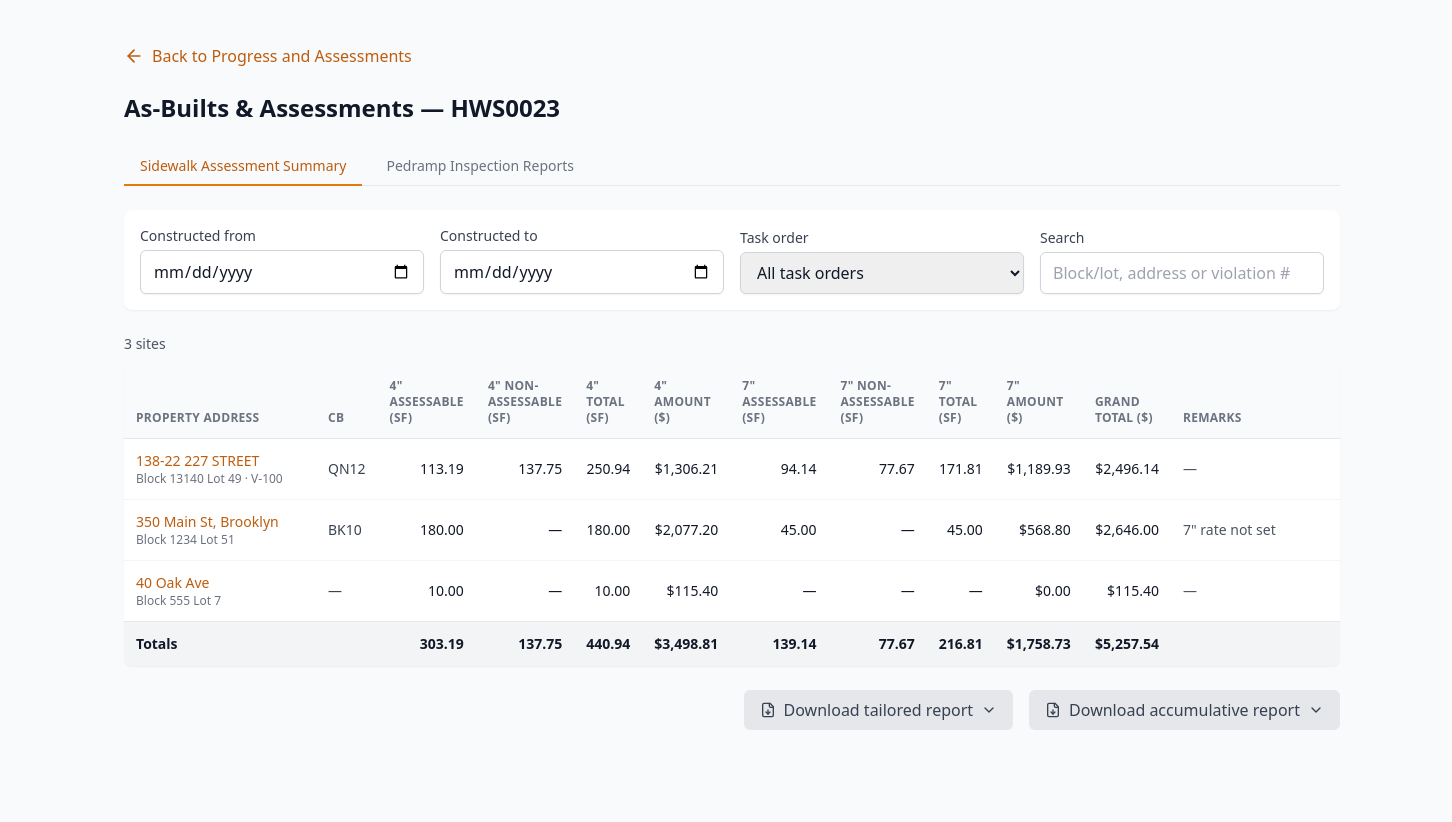
Test: AssessmentsPage — the period and the search › narrows the rows by an address, without asking the backend
Type "main st" into the search field labelled "Search" at [1182, 273], box [1040,252,1324,294]
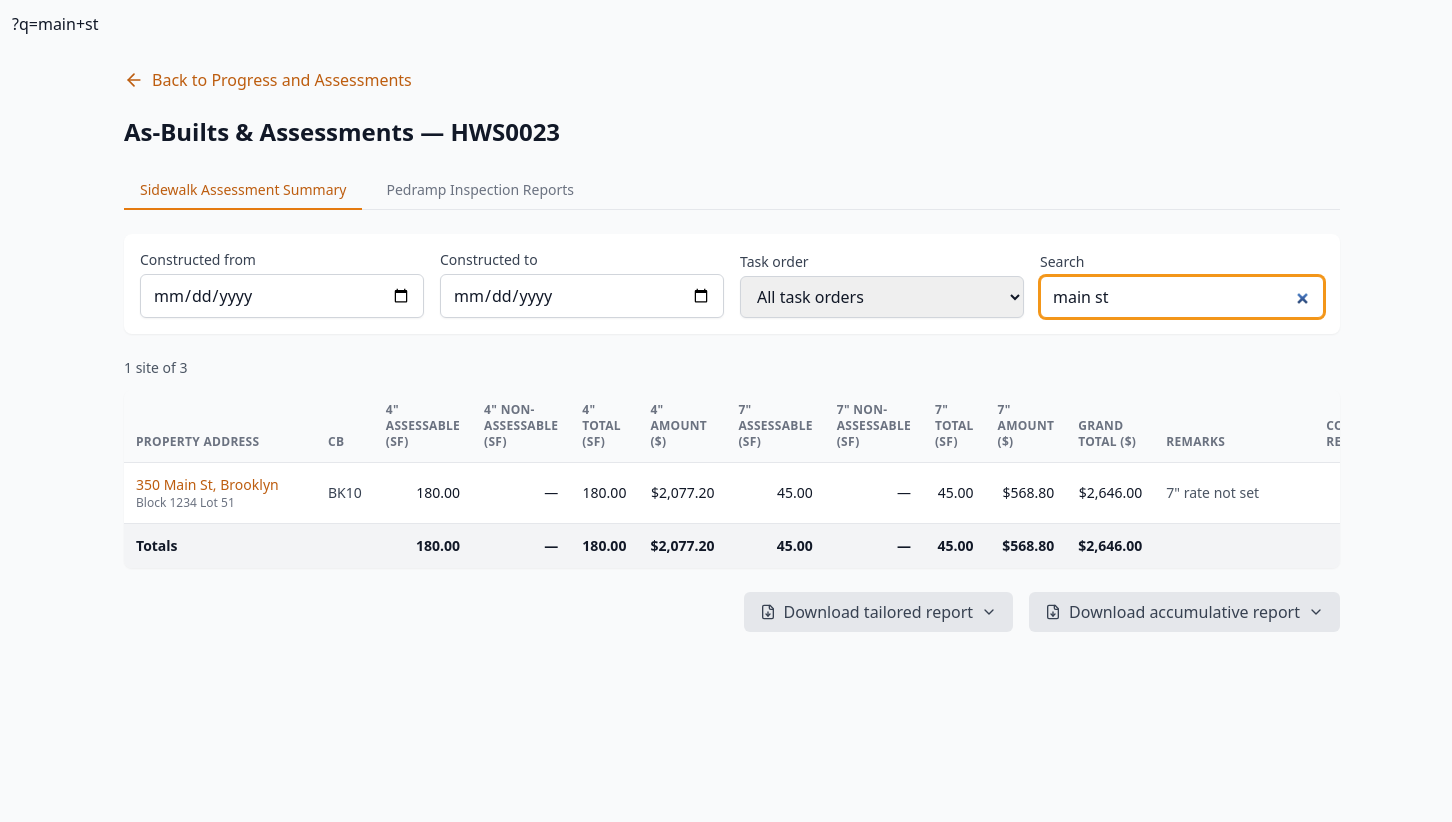
Now the text "1 site of 3" is shown, box [124,358,188,377]
